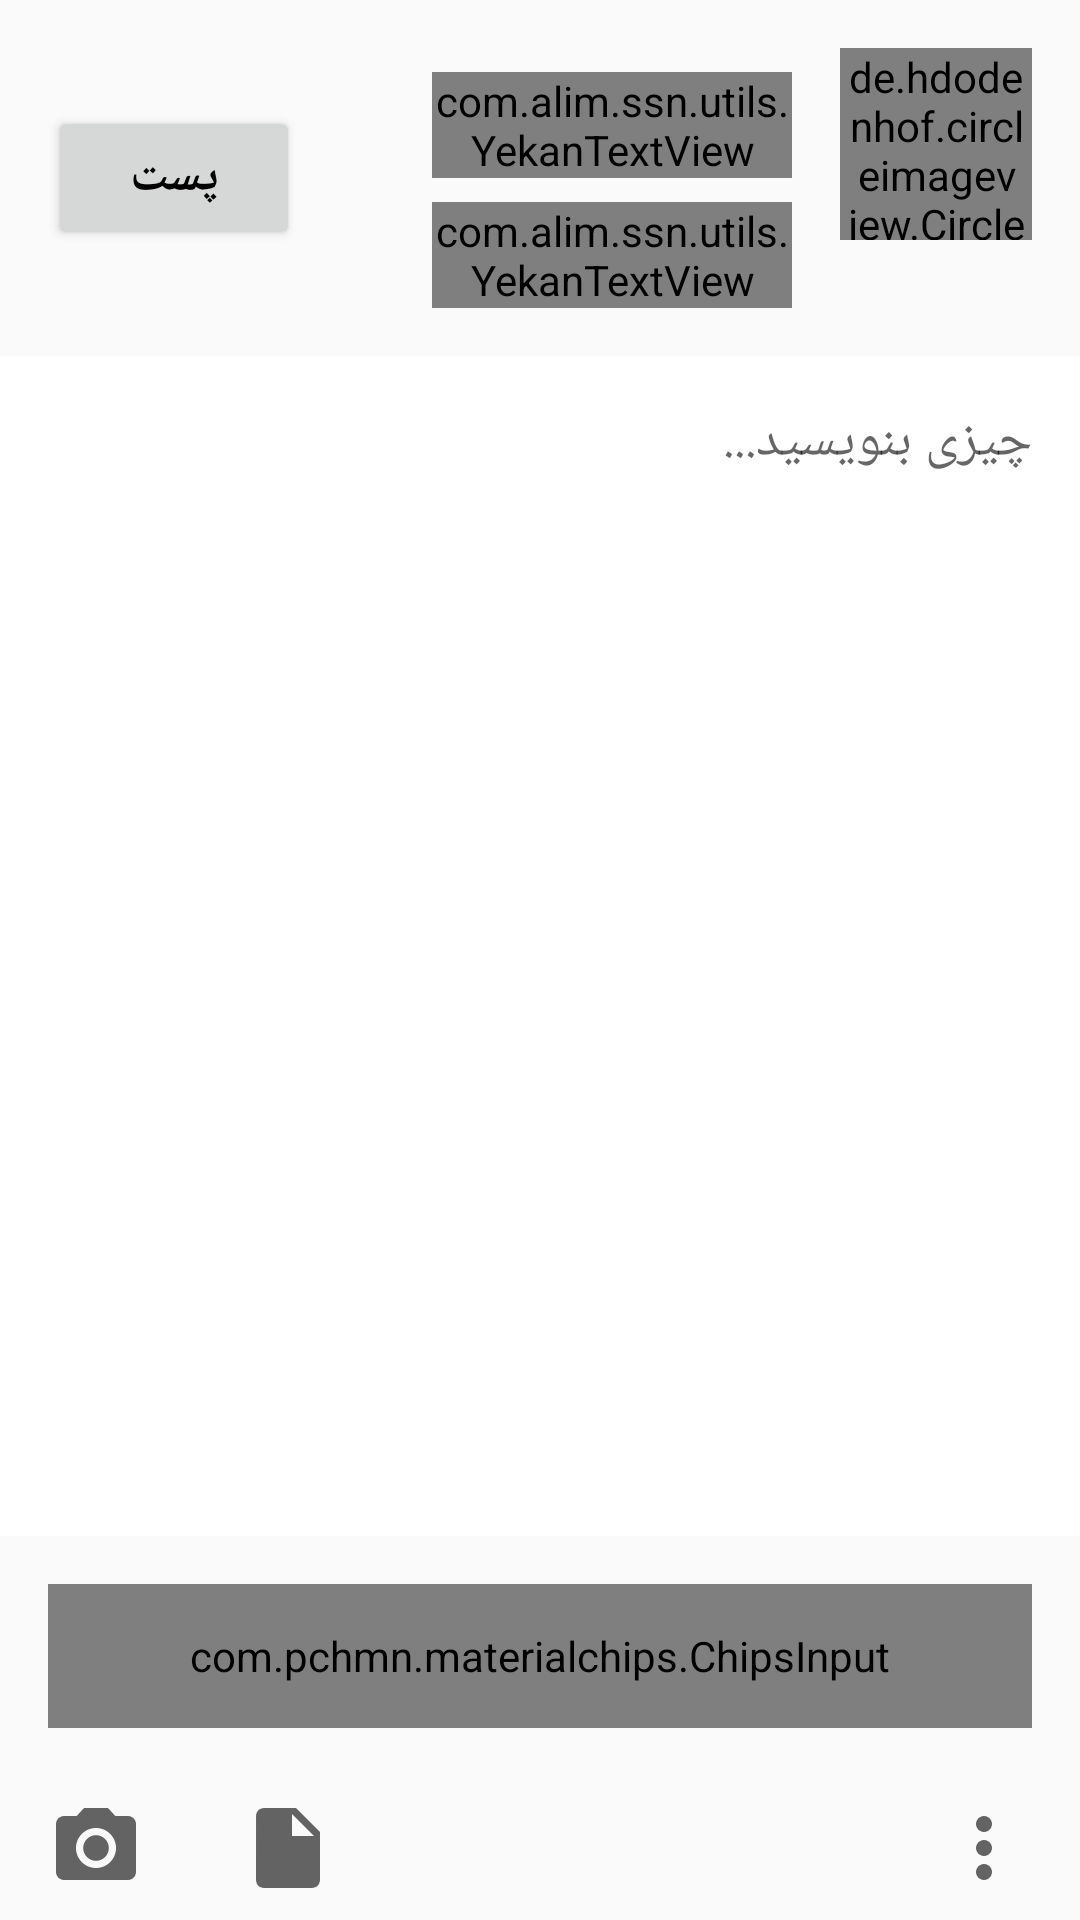

Point at icon controls on the screen. Image size 1080px×1920px, points as point (x, y).
camera: point (96, 1844)
file: point (288, 1848)
more vert: point (984, 1848)
